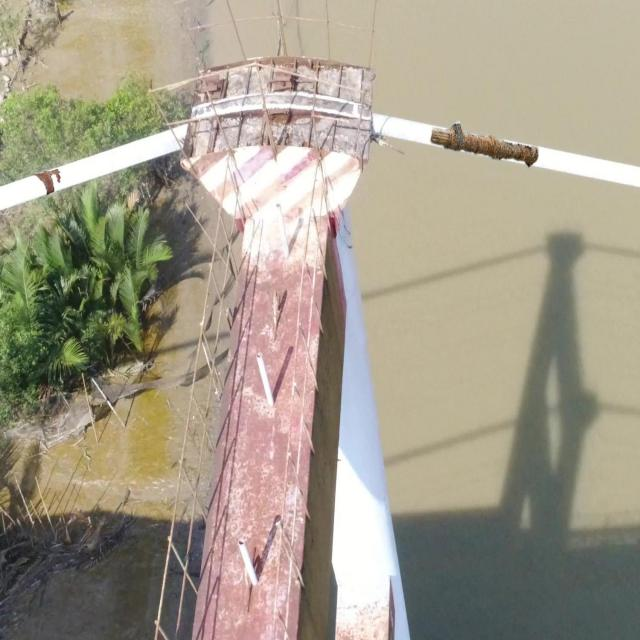corrosion: (429, 122, 540, 169), (32, 168, 61, 195)
